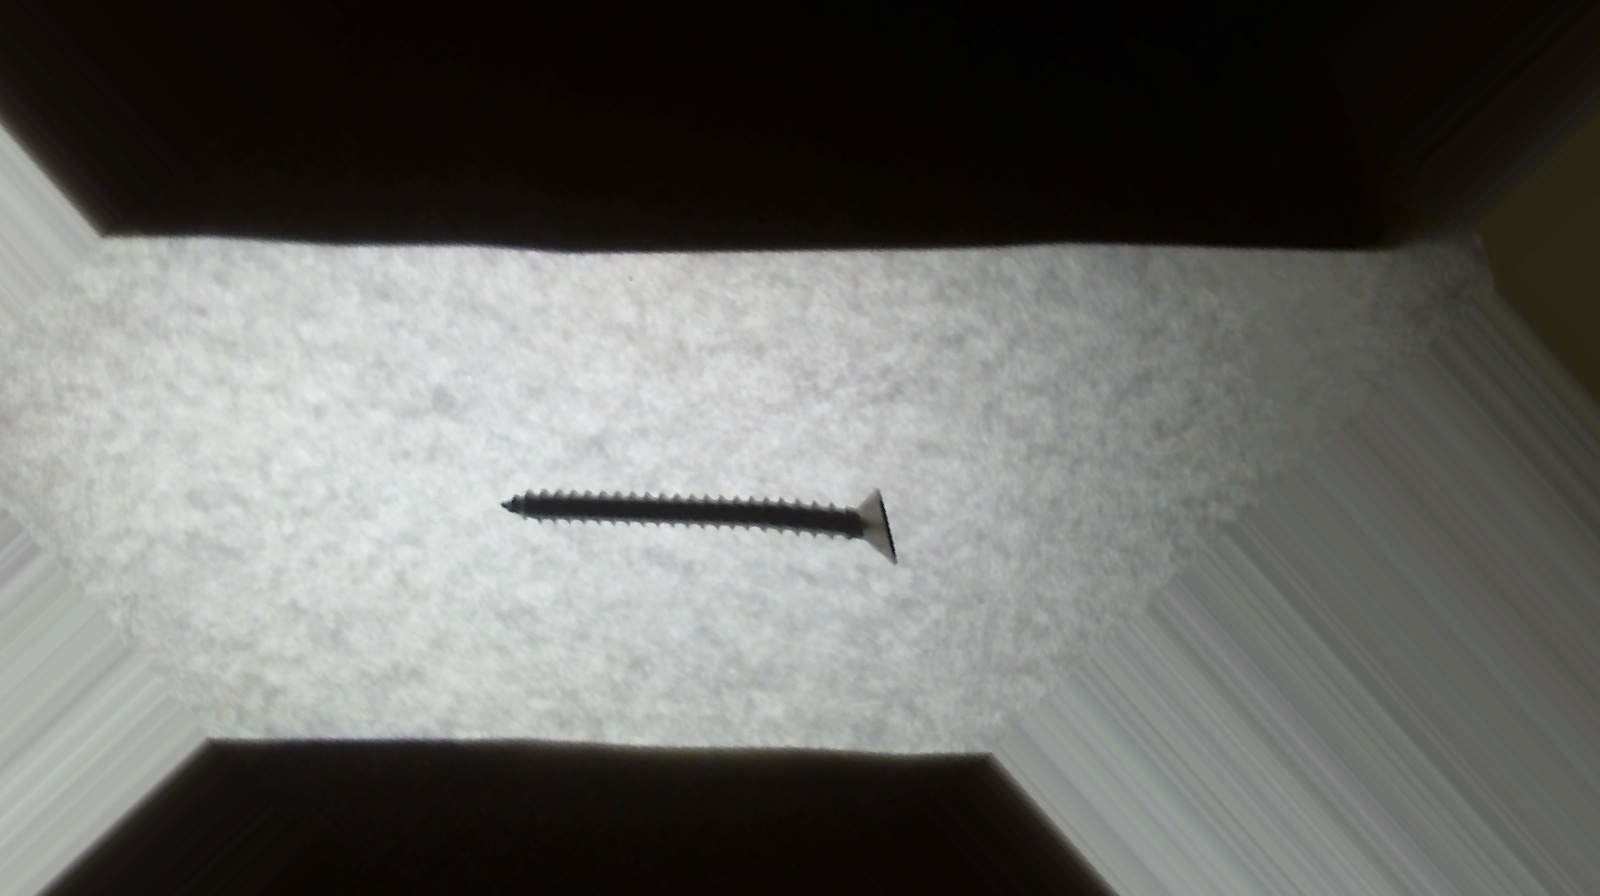S002: (473, 303, 944, 735)
